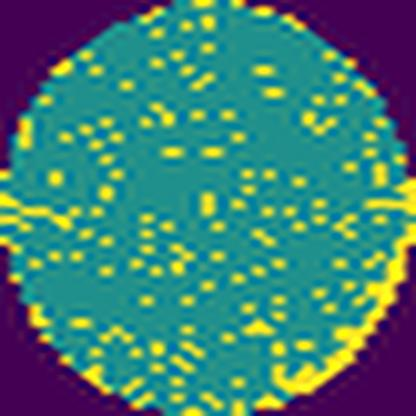Edge-Loc: (258, 173, 415, 409)
